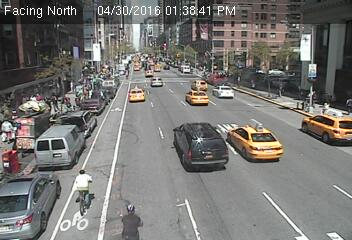neg: (70, 151, 118, 215), (114, 168, 150, 216), (131, 90, 145, 108), (149, 66, 159, 80), (217, 42, 226, 54), (153, 54, 161, 64), (205, 29, 213, 39), (169, 30, 176, 40), (182, 40, 188, 49), (145, 39, 148, 44)
